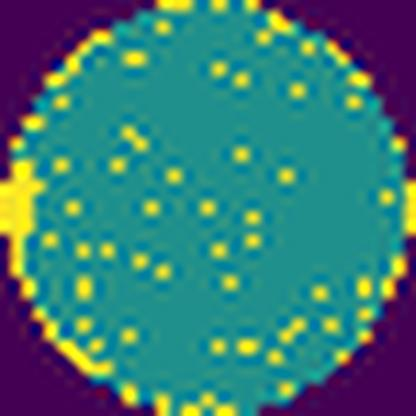Edge-Loc: (0, 155, 48, 309)
